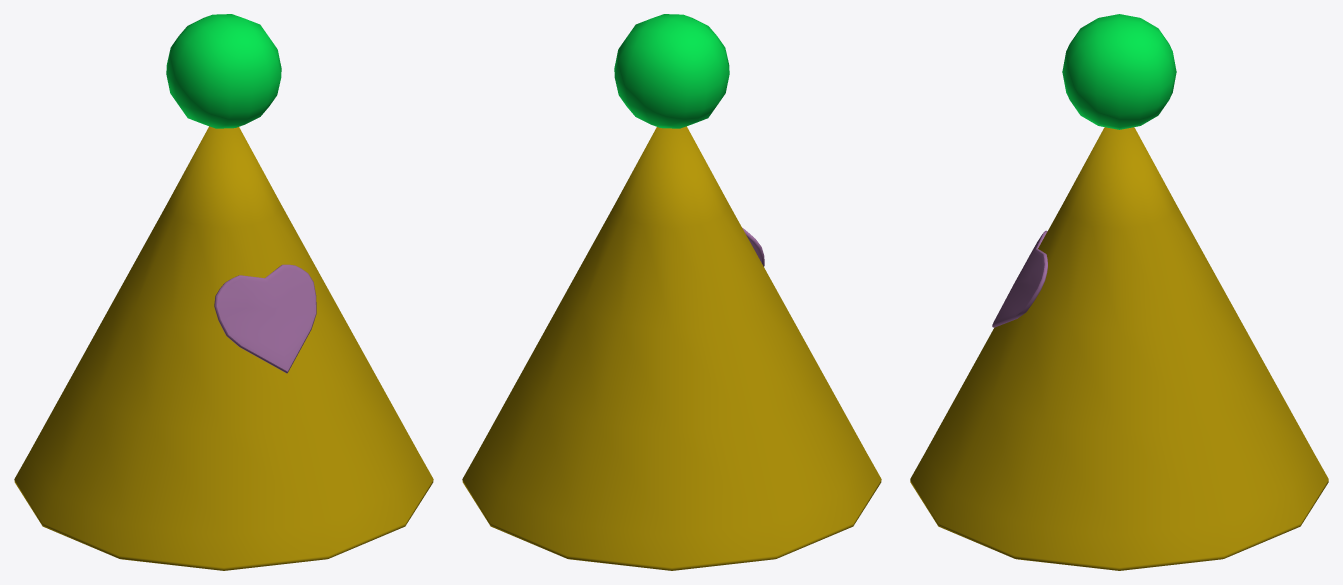
Rendered from party hat.fbx.
The picture shows the model from 3 angles, left to right: view 1: azimuth 30°, elevation 25°; view 2: azimuth 150°, elevation 25°; view 3: azimuth 270°, elevation 25°; orthographic projection.
Parts seen in each view (by area): view 1: pPlane2; view 2: pPlane2; view 3: pPlane2.
Part boxes in pixels (<box>): pPlane2: <box>14,14,433,570</box>; pPlane2: <box>462,14,881,570</box>; pPlane2: <box>910,14,1328,570</box>.
Size of the model in its own units: 215 by 263 by 215.
